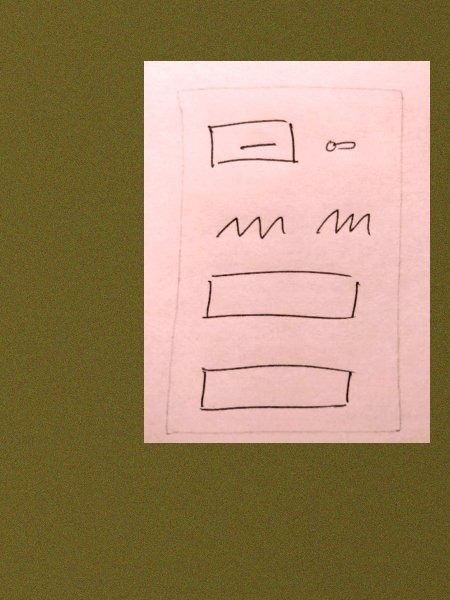button: (199, 117, 307, 169)
switch: (317, 134, 362, 158)
text: (211, 208, 292, 247), (308, 202, 376, 241)
text_input: (193, 353, 360, 420), (198, 266, 366, 327)
